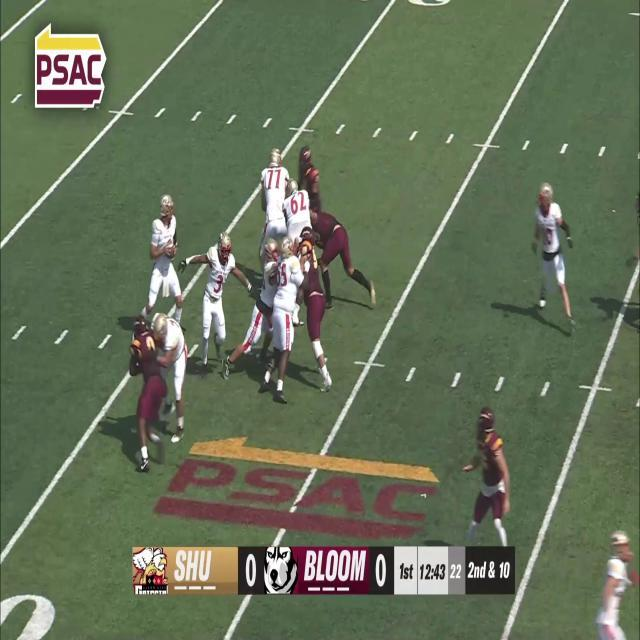football: (167, 240, 175, 260)
